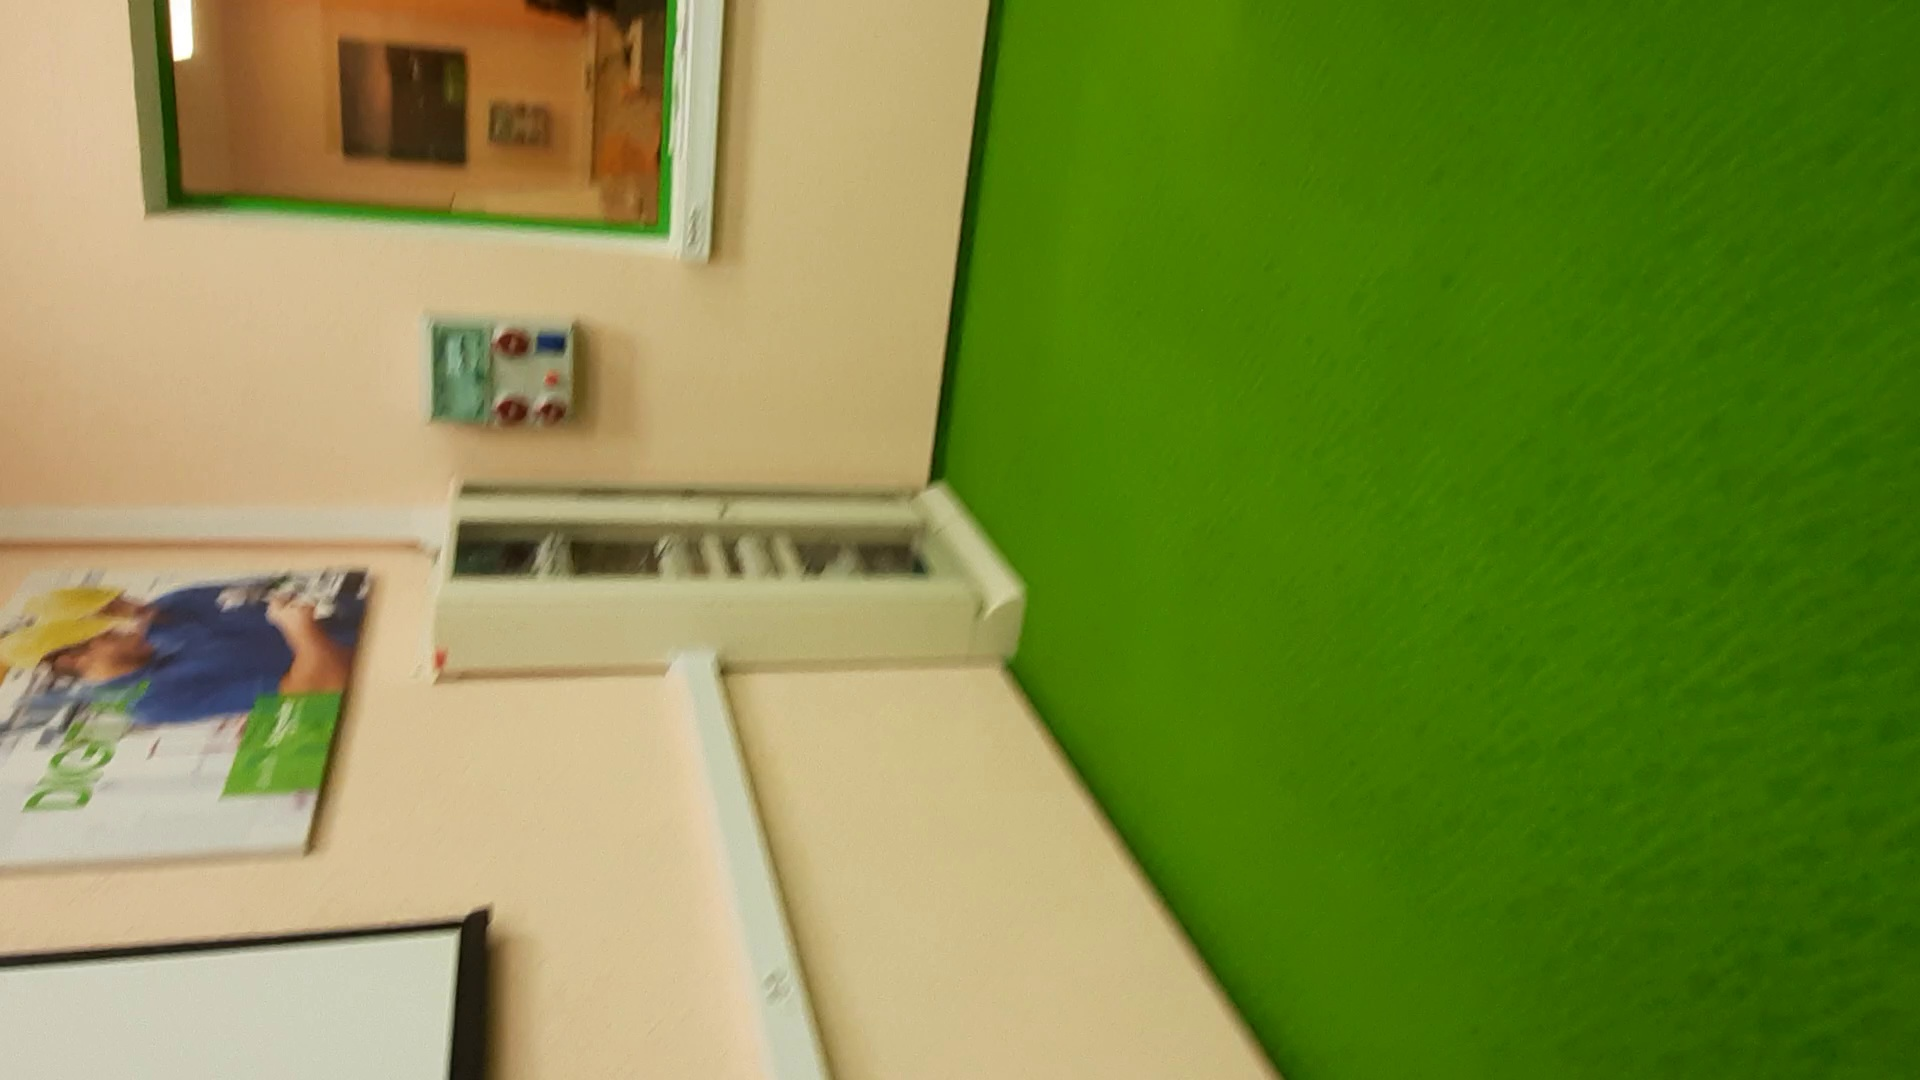stand1: (431, 465, 1029, 680)
